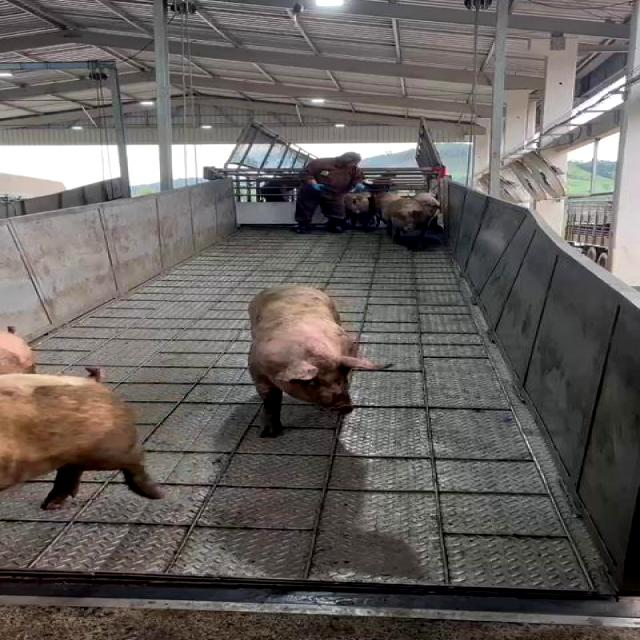pig: (1, 374, 163, 507), (249, 285, 386, 435)
